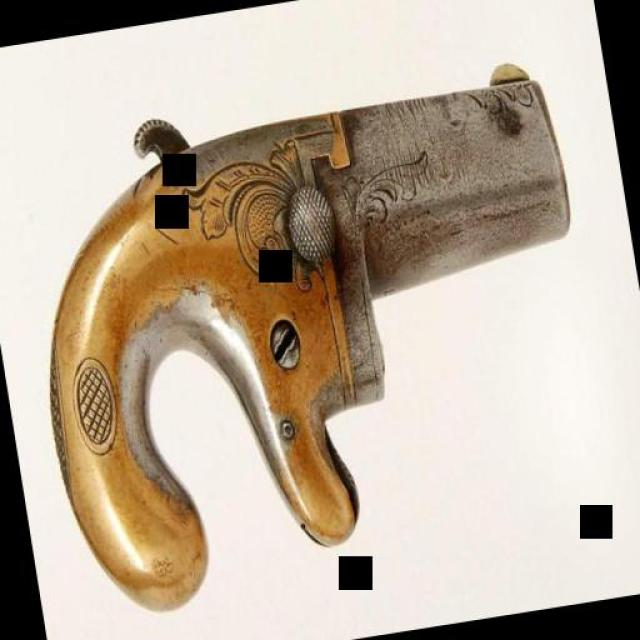gun: (0, 23, 626, 632)
